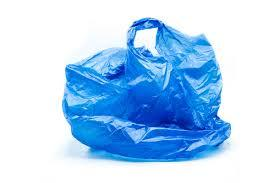plastic: (63, 18, 232, 159)
